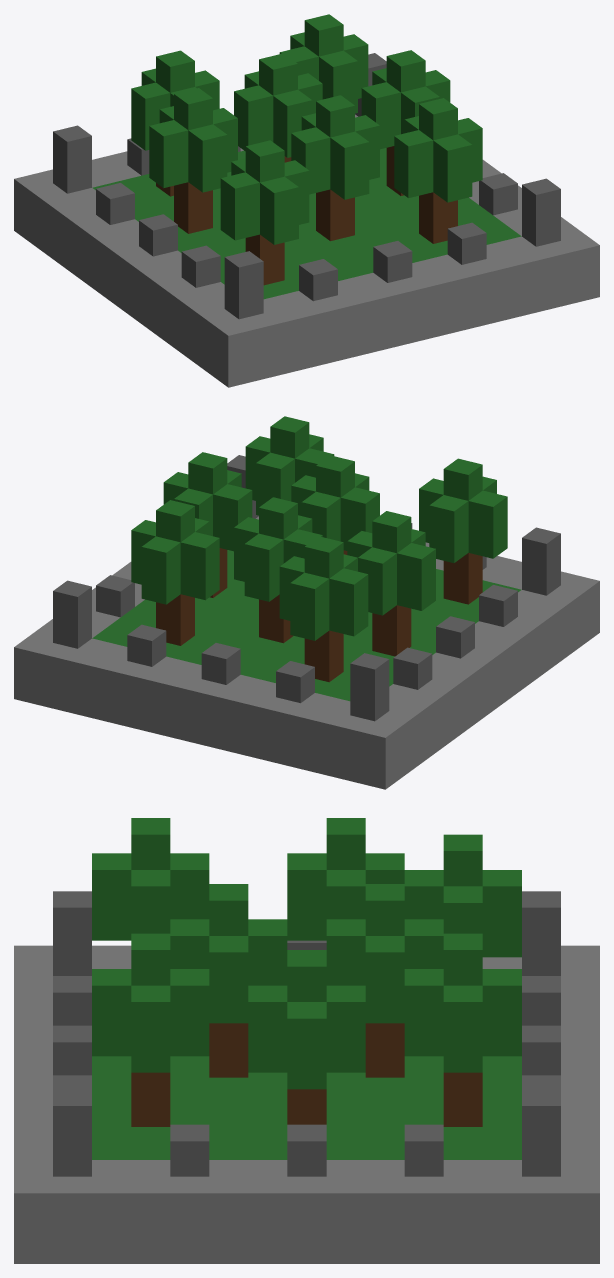
File: ParkTile.obj
3 renders of one model, top to bottom at view 1: azimuth 30°, elevation 25°; view 2: azimuth 150°, elevation 25°; view 3: azimuth 270°, elevation 25°, orthographic. The views are drawn at different scales.
Parts seen in each view (by area): view 1: ParkTile; view 2: ParkTile; view 3: ParkTile.
Part boxes in pixels (left/top/right/bottom): ParkTile: left=14, top=14, right=599, bottom=387; ParkTile: left=14, top=416, right=599, bottom=789; ParkTile: left=14, top=818, right=599, bottom=1263.
Bounding box in the file's own units: 1.5 × 0.7 × 1.5.
1 material, 1 textured.
